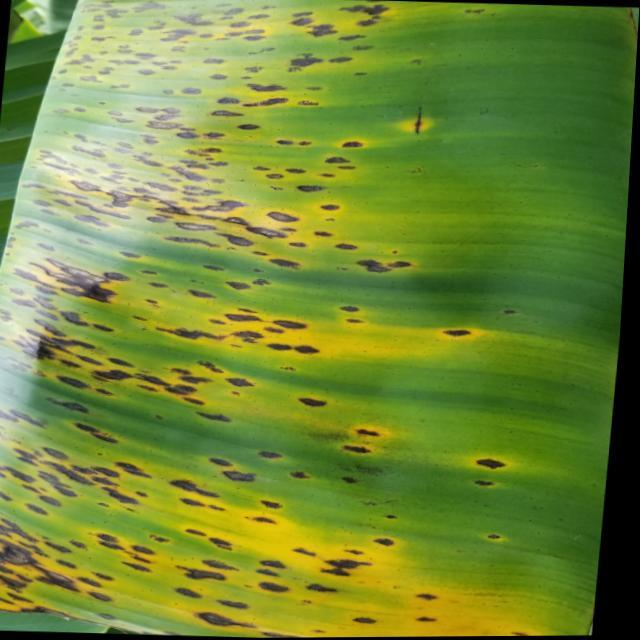Early_rust: (0, 1, 583, 640)
